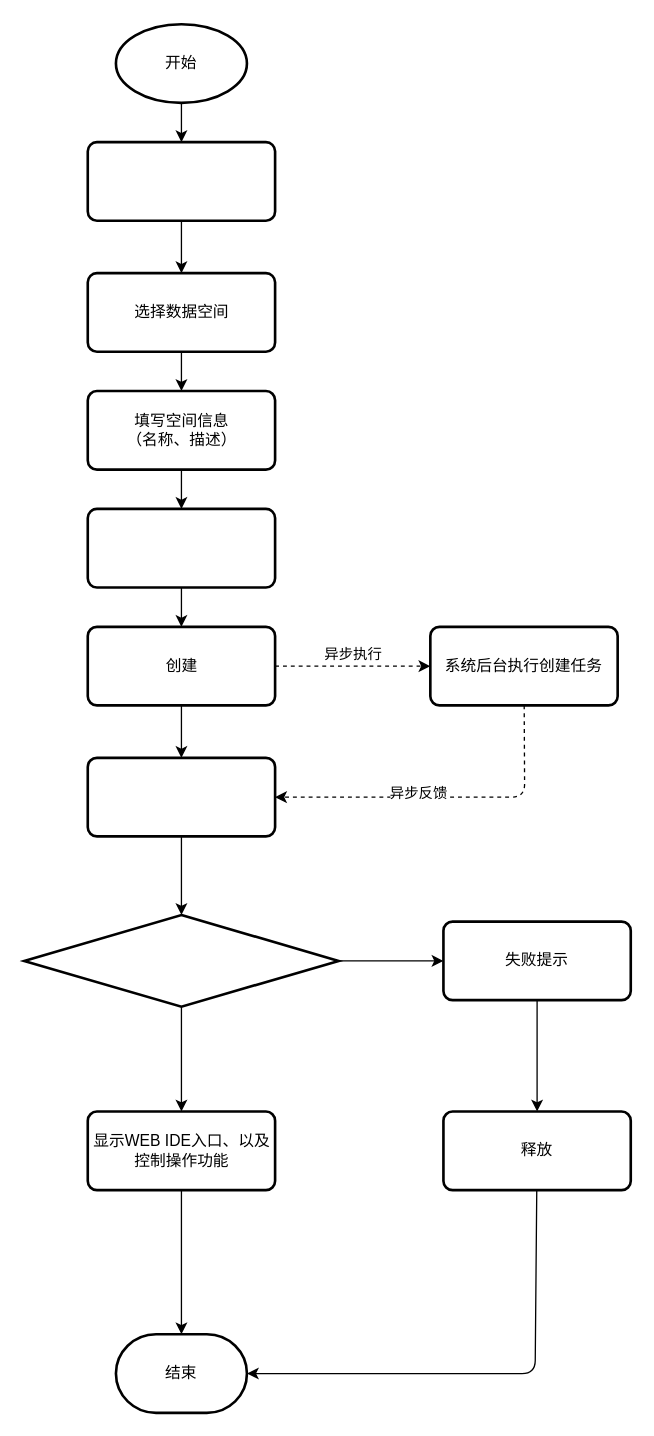
The diagram is 654 pixels wide and 1436 high, and some of its shapes have lost their labels. Here are the shapes that lost their labels. From the top down, the centre of each, then its label:
At point 181,180: "选择空间模板".
At point 181,547: "选择运行资源配置 （CPU内存磁盘）".
At point 181,796: "等待后台完成".
At point 180,960: "是否成功".
